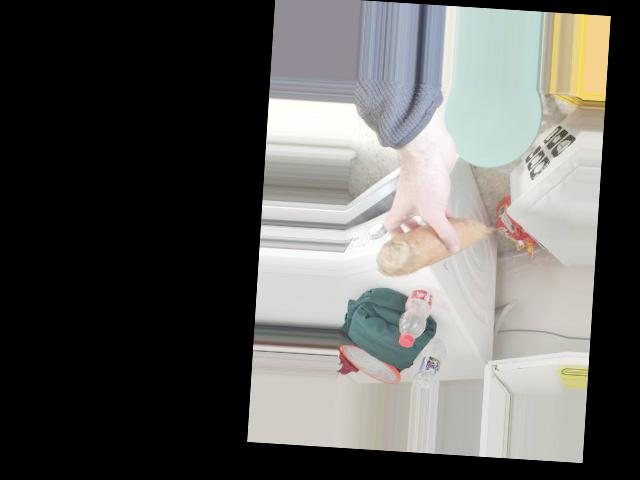sweet_potato: (382, 204, 485, 286)
